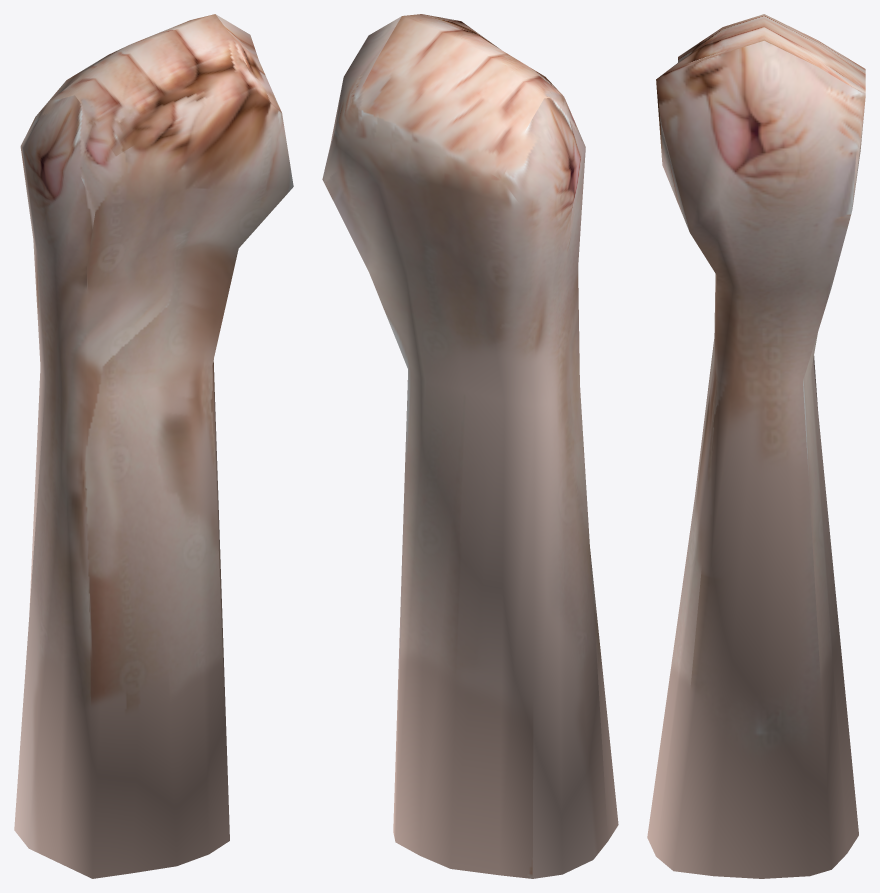
Rendered from fist.glb.
3 views of the same model, side by side, from view 1: azimuth 30°, elevation 25°; view 2: azimuth 150°, elevation 25°; view 3: azimuth 270°, elevation 25° (orthographic). The views are drawn at different scales.
Parts seen in each view (by area): view 1: Cube; view 2: Cube; view 3: Cube.
Part boxes in pixels (x1=…): Cube: x1=14, y1=14, x2=293, y2=878; Cube: x1=322, y1=14, x2=618, y2=878; Cube: x1=647, y1=14, x2=865, y2=878.
Size of the model in its own units: 3.09 by 9.7 by 2.27.
Materials: 1 (1 with a texture image).
